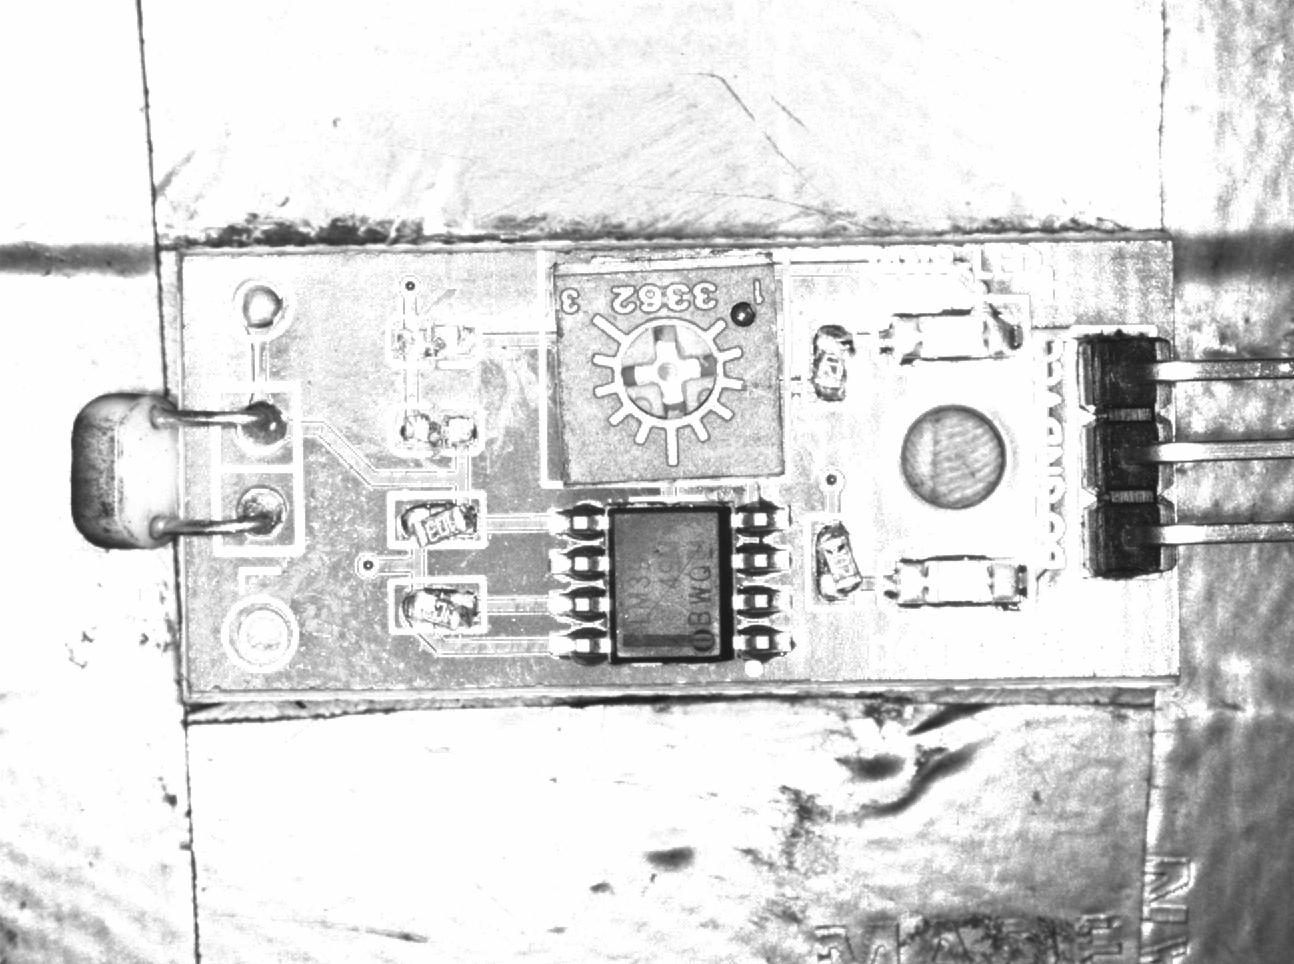lifted: (386, 492, 486, 550), (392, 578, 486, 633), (805, 316, 861, 408), (816, 515, 866, 611)
miss: (385, 402, 484, 458), (387, 313, 484, 368)
